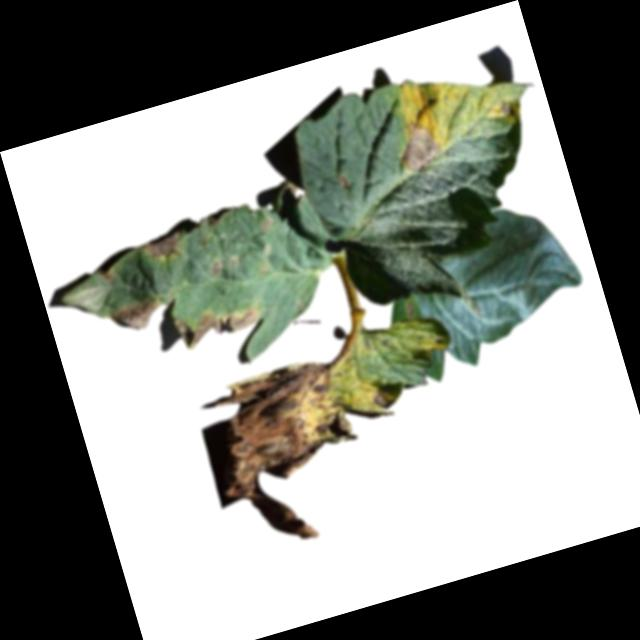Early_blight: (195, 353, 376, 560), (172, 292, 274, 353), (389, 111, 443, 176), (109, 293, 167, 338), (140, 230, 189, 266), (369, 380, 401, 412), (495, 93, 519, 119), (97, 268, 118, 287), (204, 258, 225, 277), (404, 298, 417, 315)
